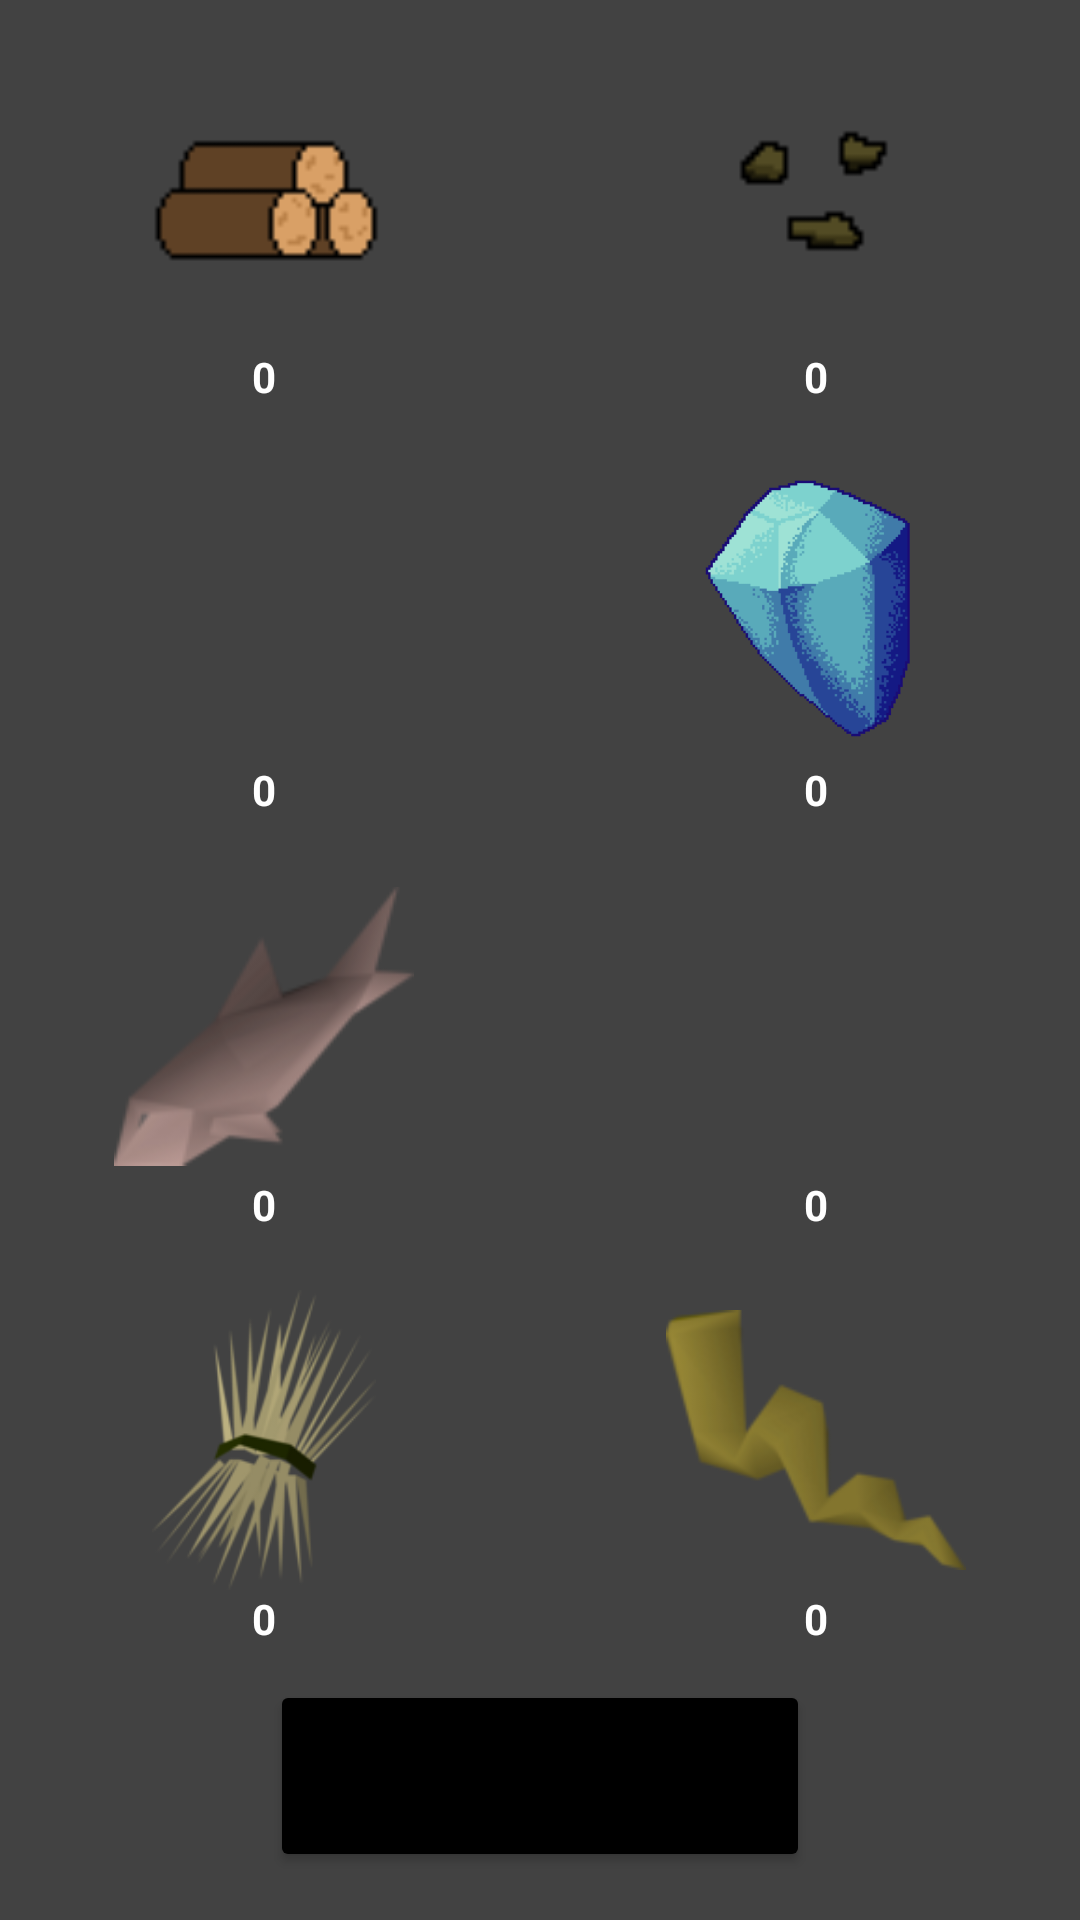

Screen size 1080×1920. Icon name, then its center in pixels as [x,y]:
gem: [808,608]
grain: [263,1439]
logs: [266,200]
magicseed: [813,191]
root: [814,1440]
trout: [262,1028]
